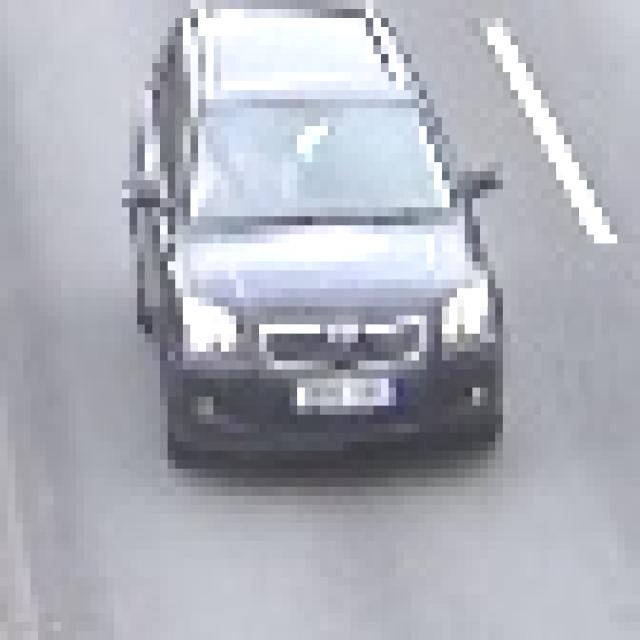SUV: (141, 11, 494, 465)
